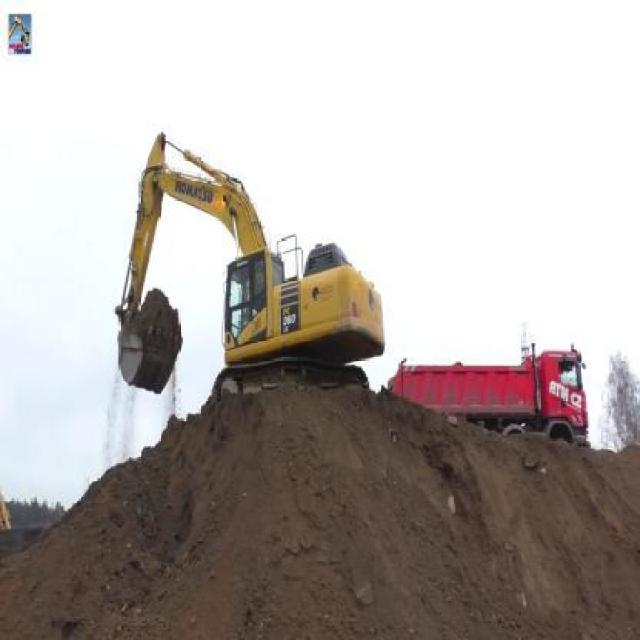dump_truck: (387, 340, 591, 463)
excavator: (116, 122, 384, 407)
